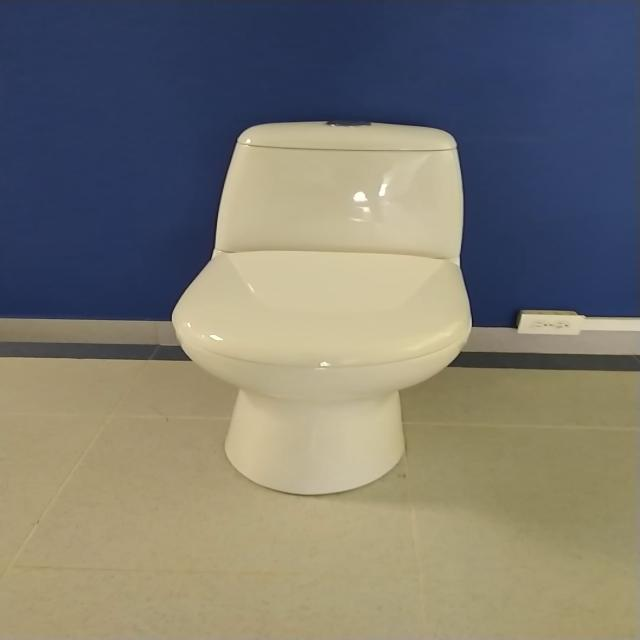toilet: (169, 119, 473, 495)
